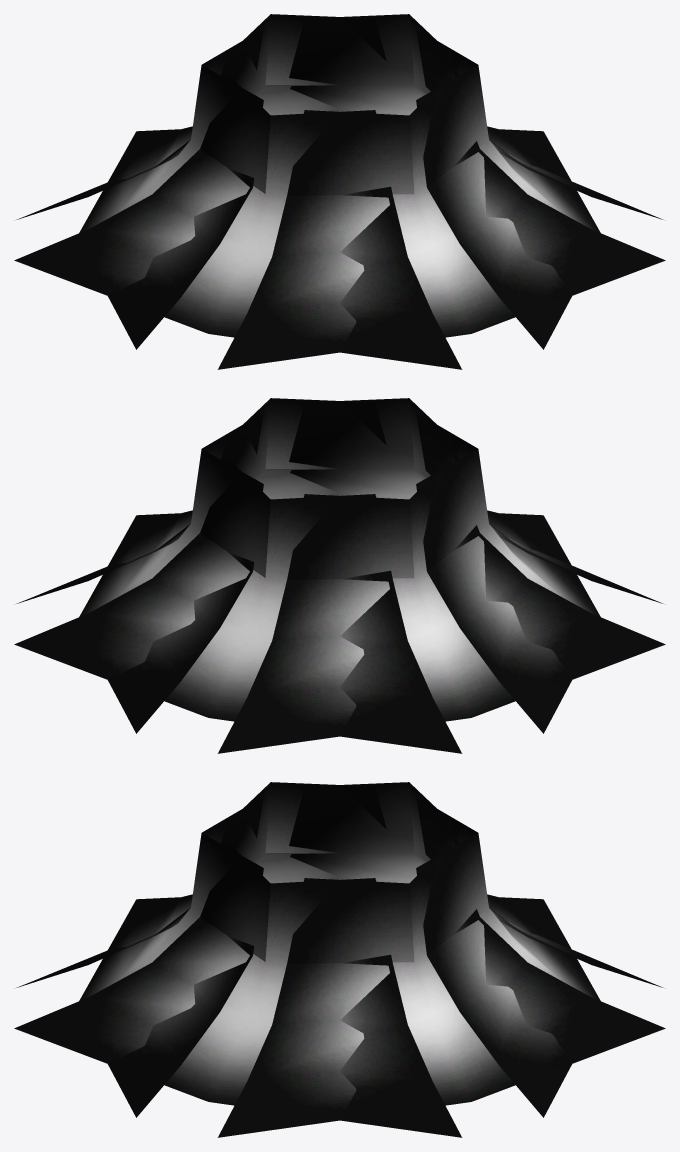
The model's file is vfx_kurp_0155.dae.
3 renders of one model, top to bottom at view 1: azimuth 30°, elevation 25°; view 2: azimuth 150°, elevation 25°; view 3: azimuth 270°, elevation 25°, orthographic.
Parts seen in each view (by area): view 1: vfx_kurp_0155; view 2: vfx_kurp_0155; view 3: vfx_kurp_0155.
Boxes of the visible parts, x1,y1,x2,y2 form: vfx_kurp_0155: [14, 14, 665, 369]; vfx_kurp_0155: [14, 398, 665, 753]; vfx_kurp_0155: [14, 782, 665, 1137].
Bounding box in the file's own units: 12.81 × 13.66 × 4.08.
1 material, 1 textured.
